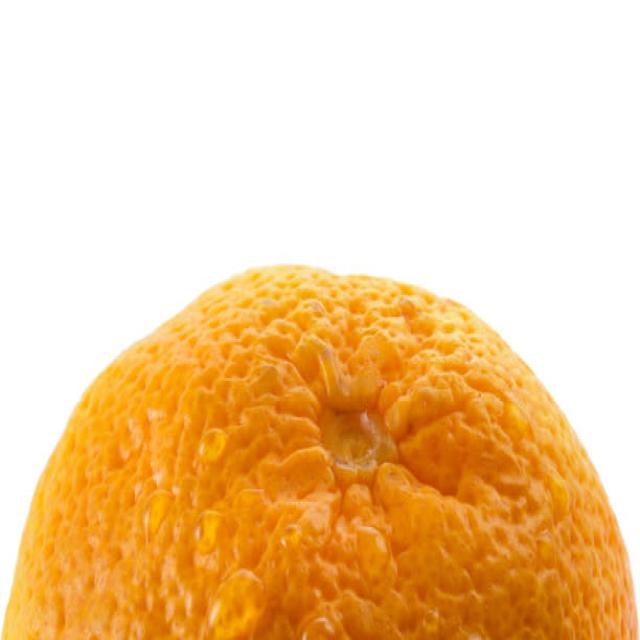overripe: (0, 255, 640, 640)
